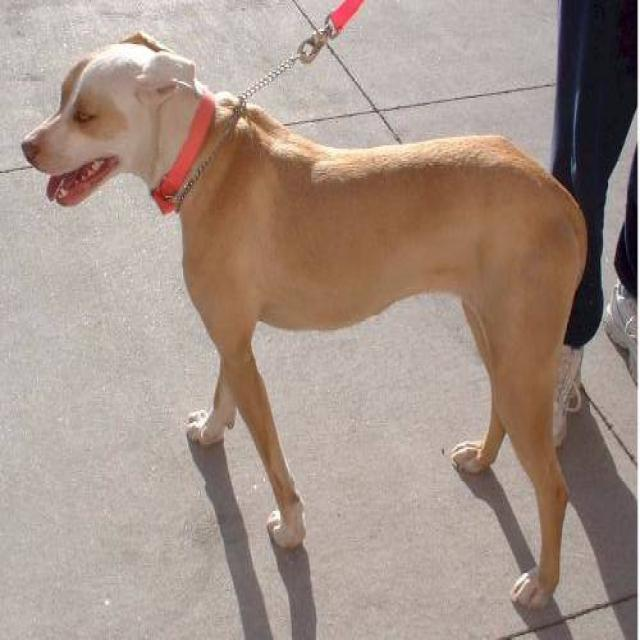dog: (19, 28, 589, 610)
